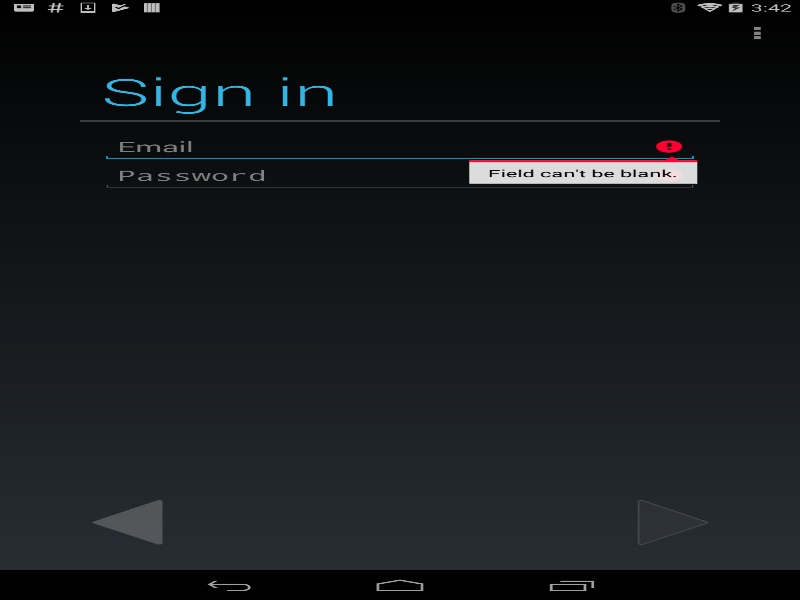Button: (625, 494, 720, 550), (80, 494, 174, 550), (714, 15, 800, 50)
Input: (101, 132, 698, 161), (101, 161, 698, 190)
